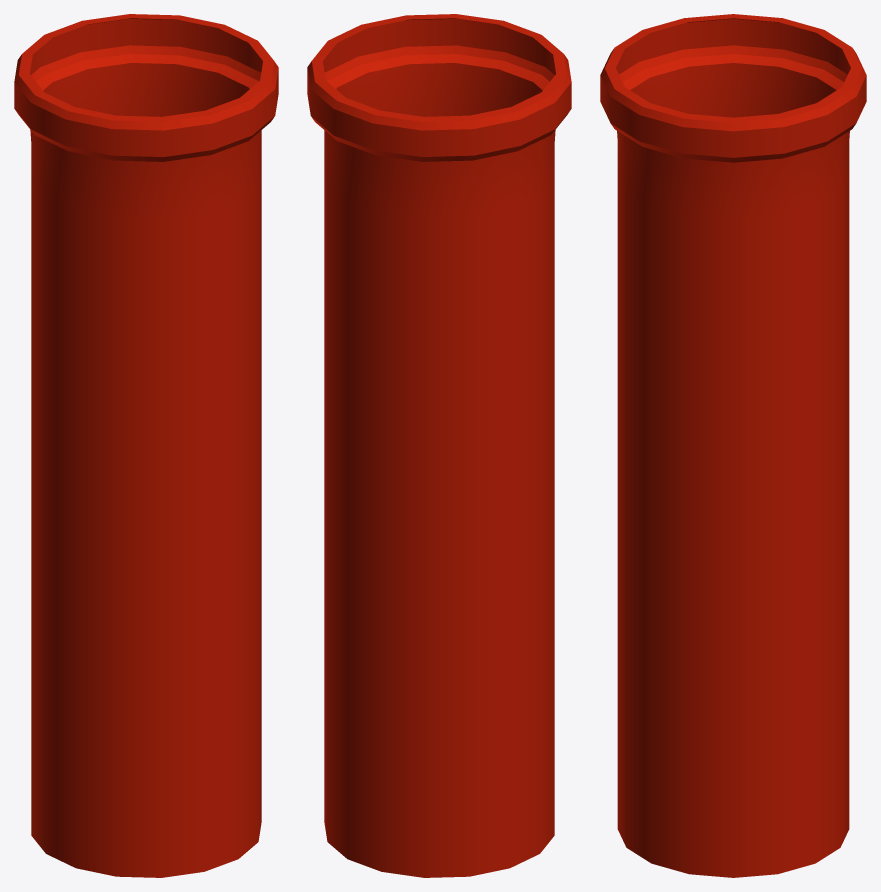
File: SM_Pipe_Straight.fbx
3 renders of one model, left to right at view 1: azimuth 30°, elevation 25°; view 2: azimuth 150°, elevation 25°; view 3: azimuth 270°, elevation 25°, orthographic.
Parts seen in each view (by area): view 1: Straight; view 2: Straight; view 3: Straight.
Boxes of the visible parts, x1,y1,x2,y2 form: Straight: (14, 14, 278, 877); Straight: (307, 14, 571, 877); Straight: (600, 14, 866, 877).
Bounding box in the file's own units: 31.72 × 100 × 31.72.
